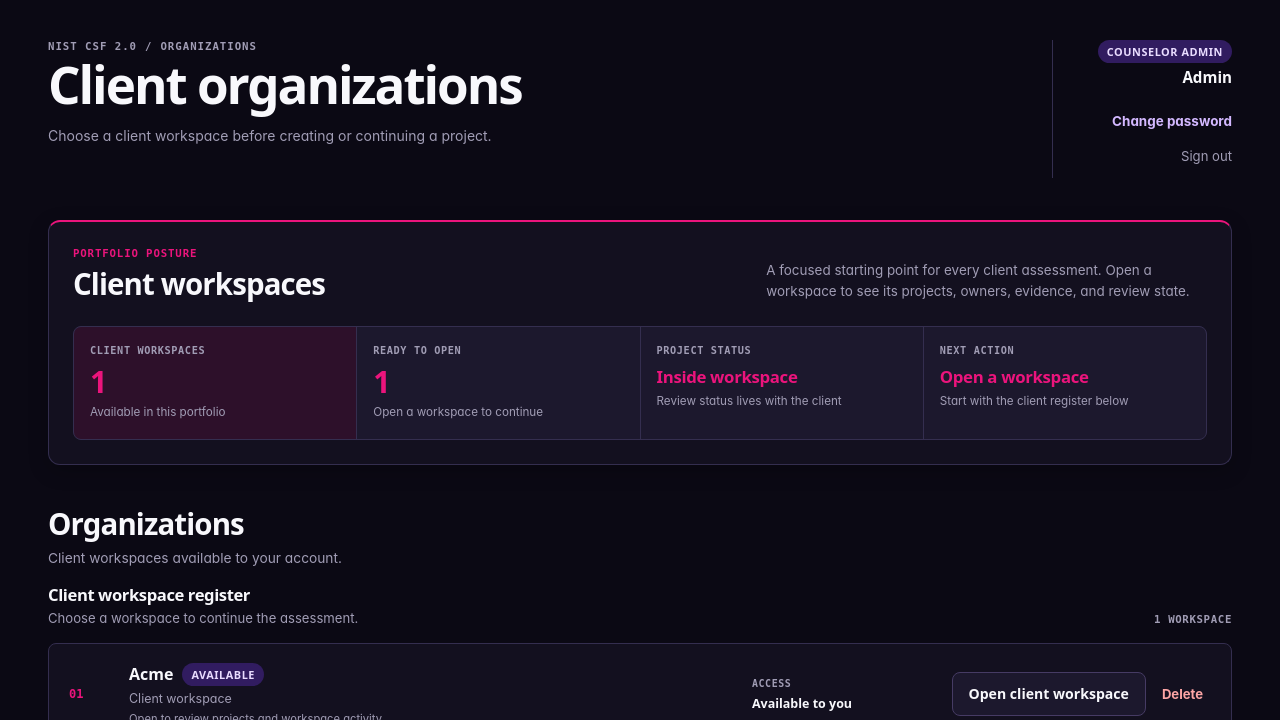
Test: keeps the organization confirmation open when deletion fails
The width and height of the screenshot is (1280, 720).
Click the button with aria-label "Delete Acme" at (1182, 694), box [1154,672,1211,716]
(page scrolled)
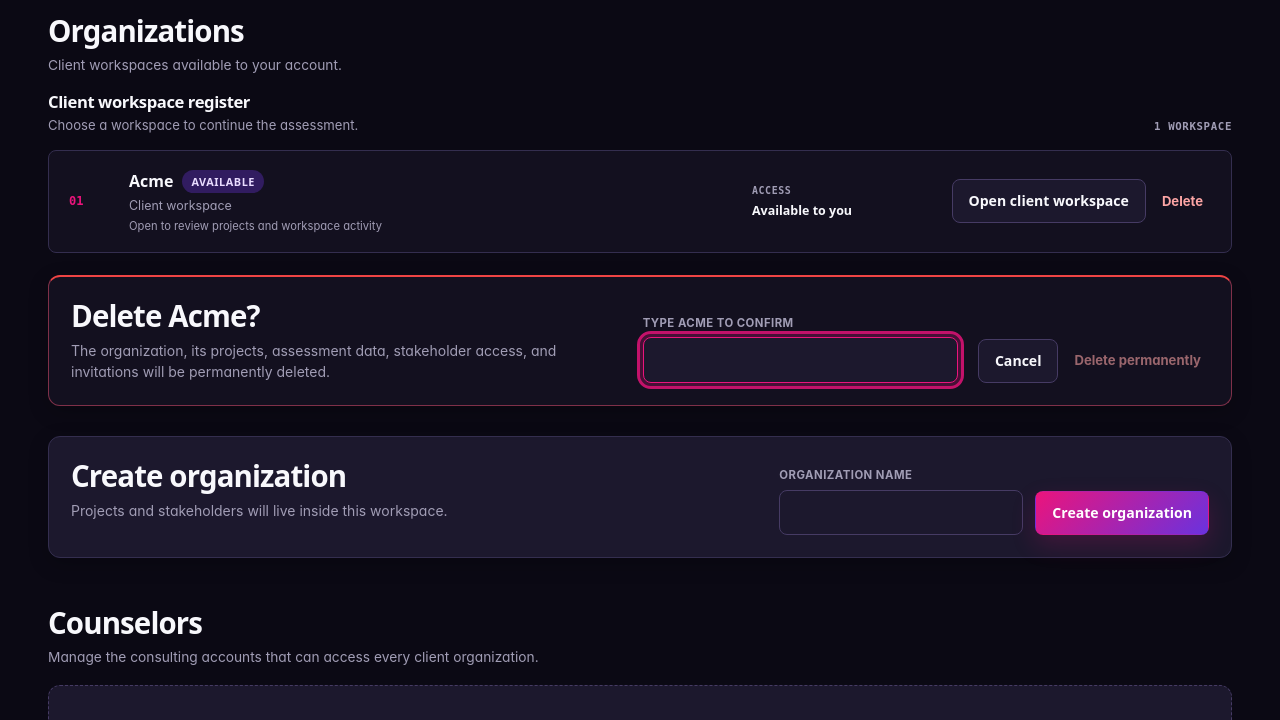
Type "Acme" into the field labelled "Type Acme to confirm" at (800, 360), box [643,337,958,383]
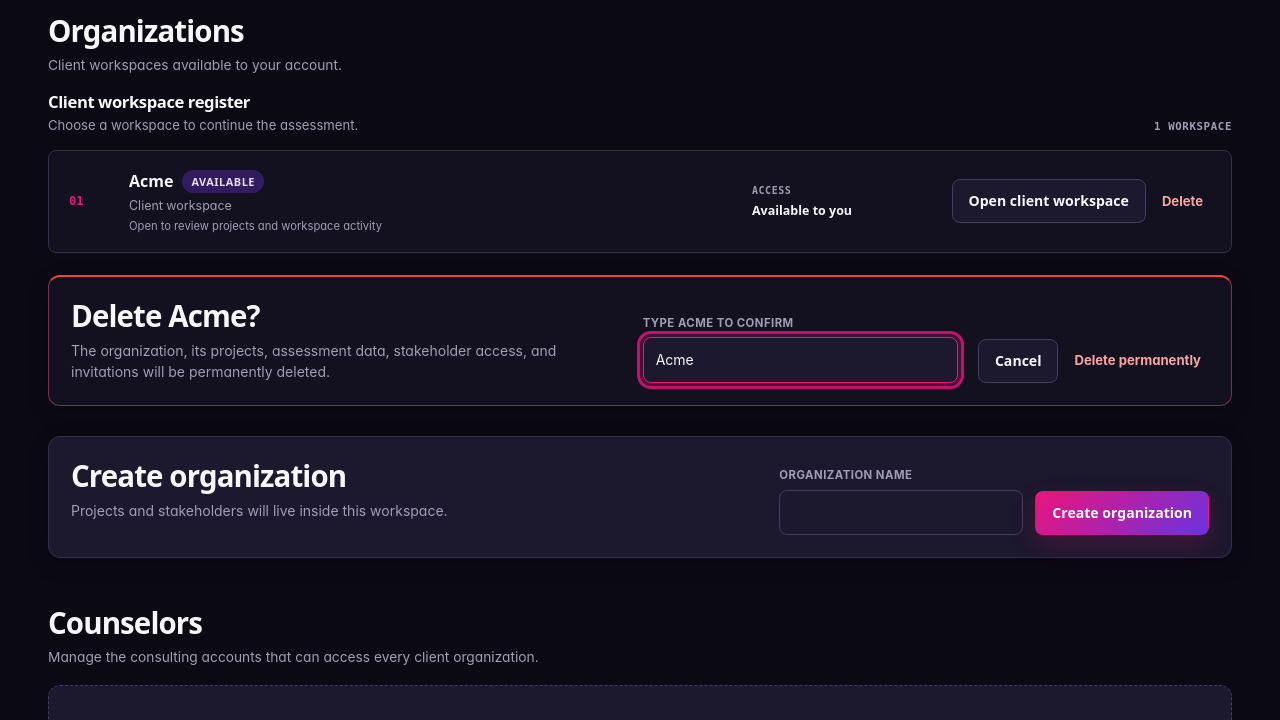
Click the button "Delete permanently" at (1138, 361), box [1066,339,1209,383]
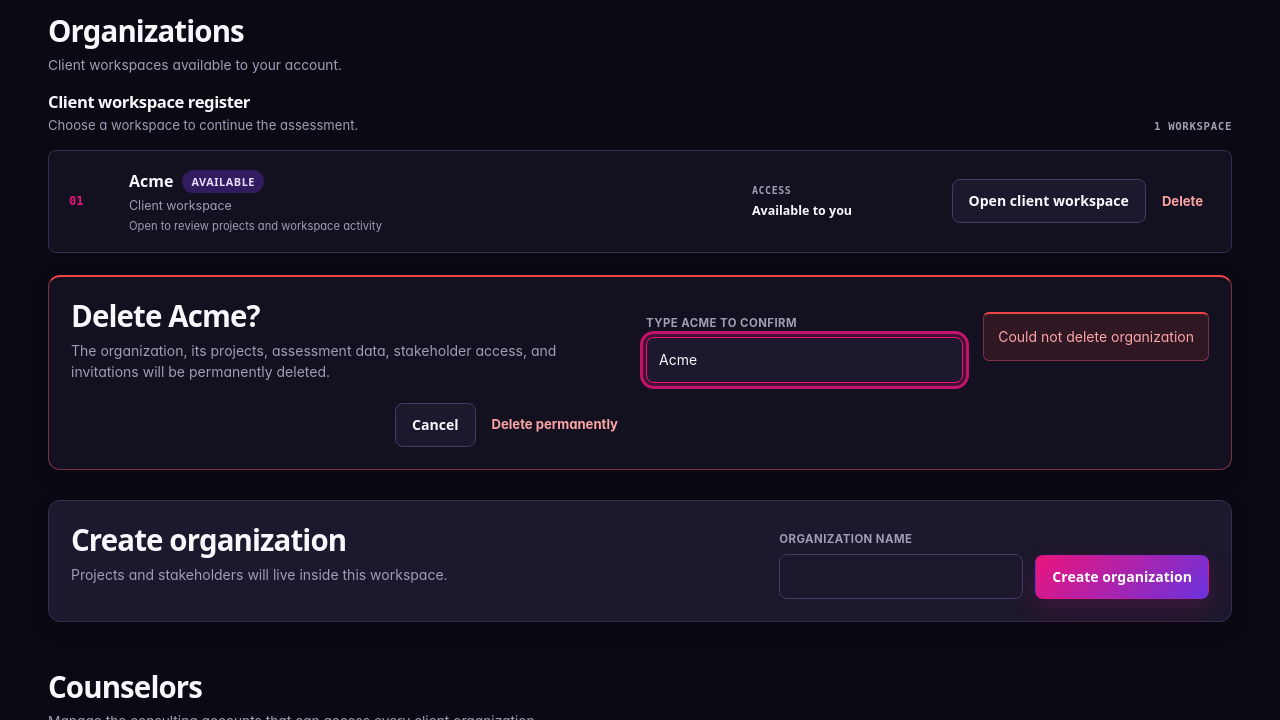
Result: the dialog "Delete Acme" is shown at [48,275,1232,470]
Result: the message reads "Could not delete organization" at [998,328,1194,345]
